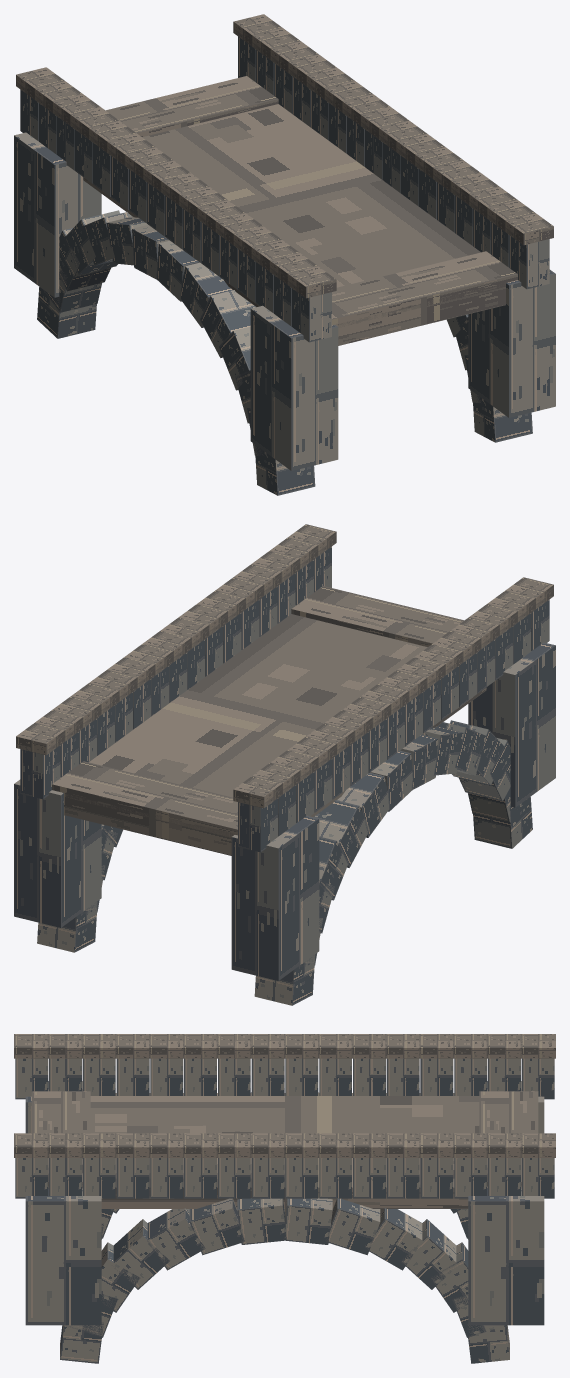
The model's file is bridge.glb.
The picture shows the model from 3 angles, top to bottom: view 1: azimuth 30°, elevation 25°; view 2: azimuth 150°, elevation 25°; view 3: azimuth 270°, elevation 25°; orthographic projection. The views are drawn at different scales.
Visible parts, largest first — view 1: bridge_brick, bridge_stone; view 2: bridge_brick, bridge_stone; view 3: bridge_brick, bridge_stone.
Part boxes in pixels (x1,y1,x2,y2): bridge_brick: [14, 36, 555, 495]; bridge_stone: [16, 14, 553, 345]; bridge_brick: [14, 546, 555, 1005]; bridge_stone: [16, 524, 553, 855]; bridge_brick: [15, 1058, 554, 1363]; bridge_stone: [14, 1034, 555, 1208].
Size of the model in its own units: 3.38 by 2.81 by 6.42.
Materials: 2 (2 with a texture image).
